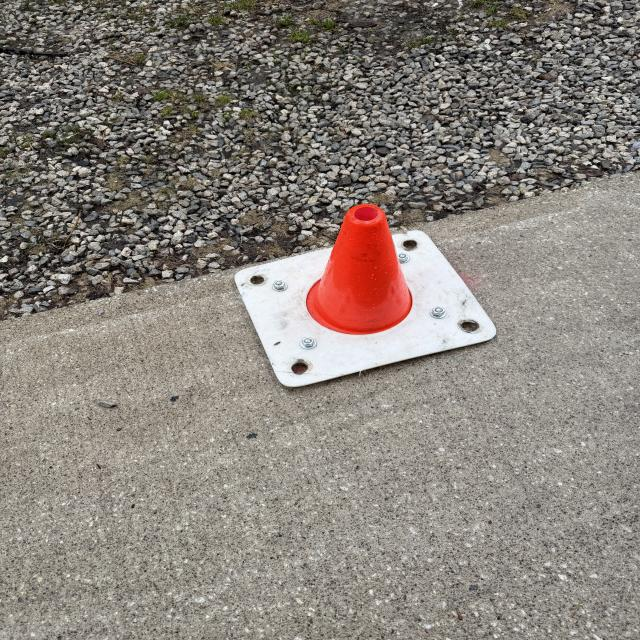Traffic Cone: (230, 204, 499, 388)
